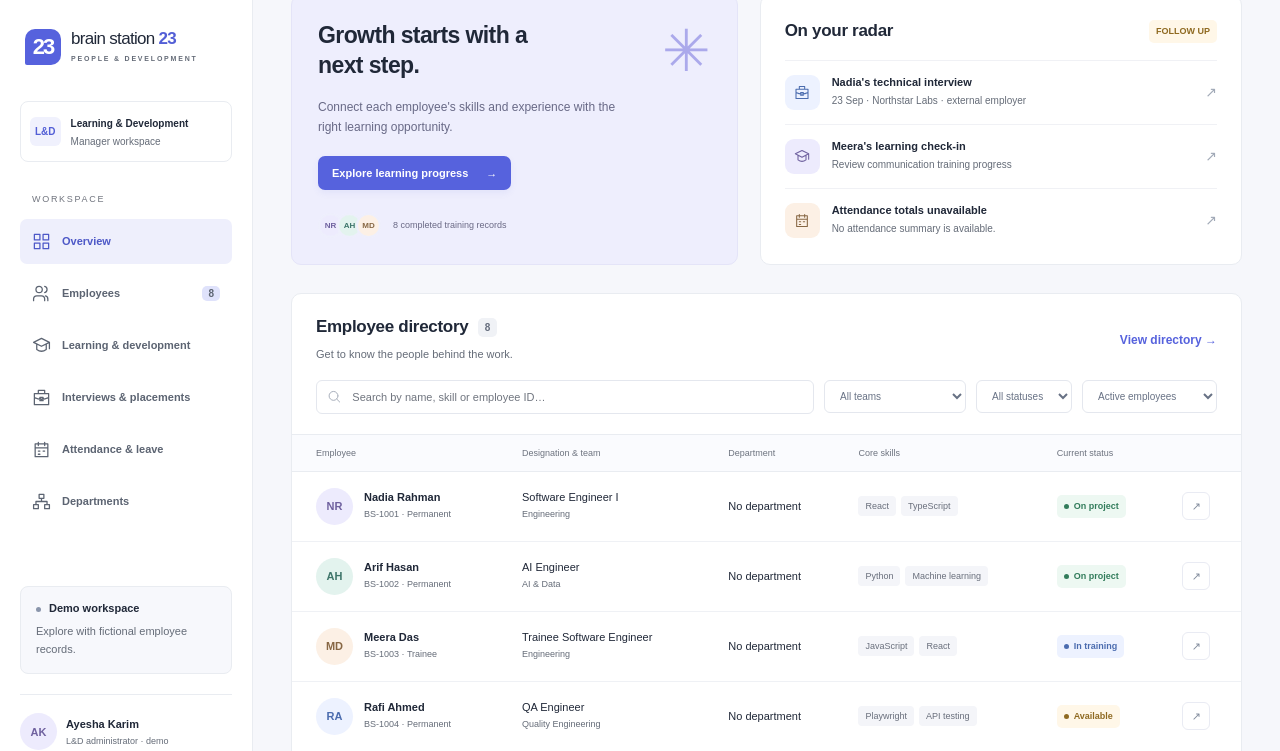
Scenario: Portal directory › filters by status
This screenshot has width=1280, height=751.
(page scrolled)
Select "In training" in the dropdown named "Filter by status". click: (1024, 397)
box: [976, 380, 1072, 413]
(page scrolled)
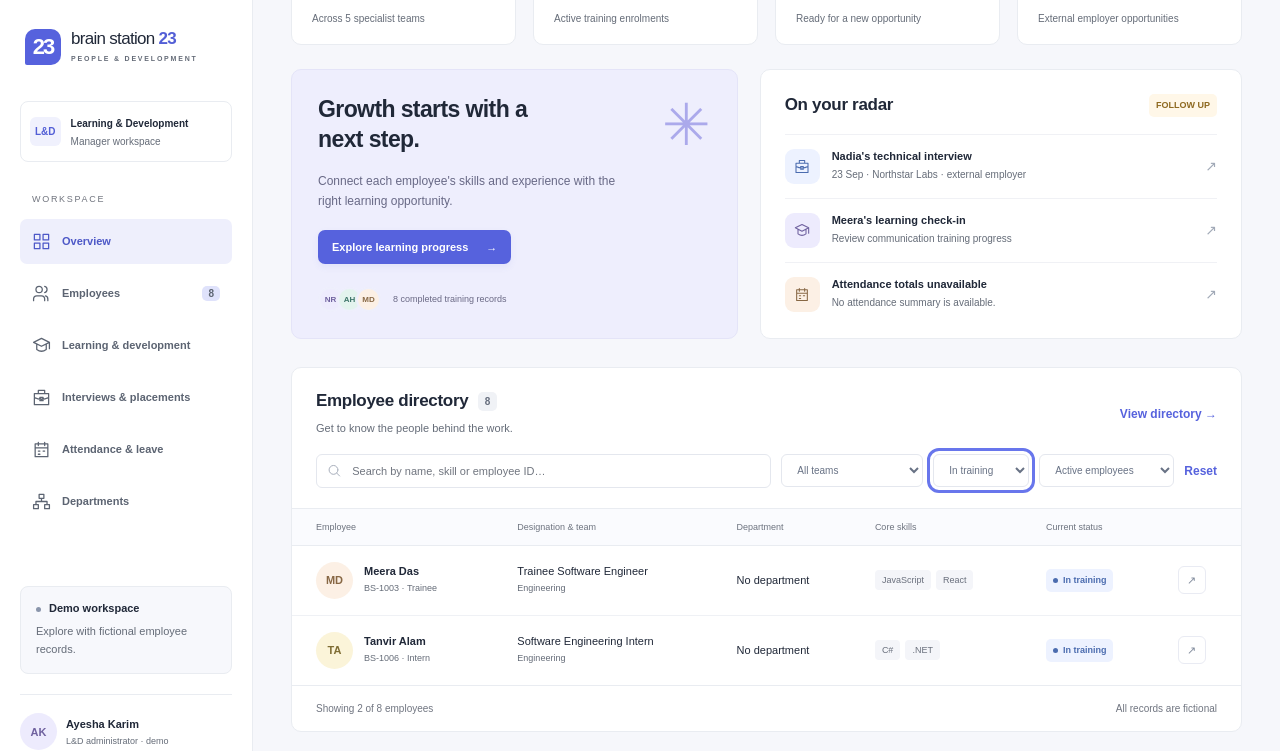
expect the number of rows is 3: met, box [292, 508, 1241, 545]; [292, 545, 1241, 615]; [292, 615, 1241, 685]
